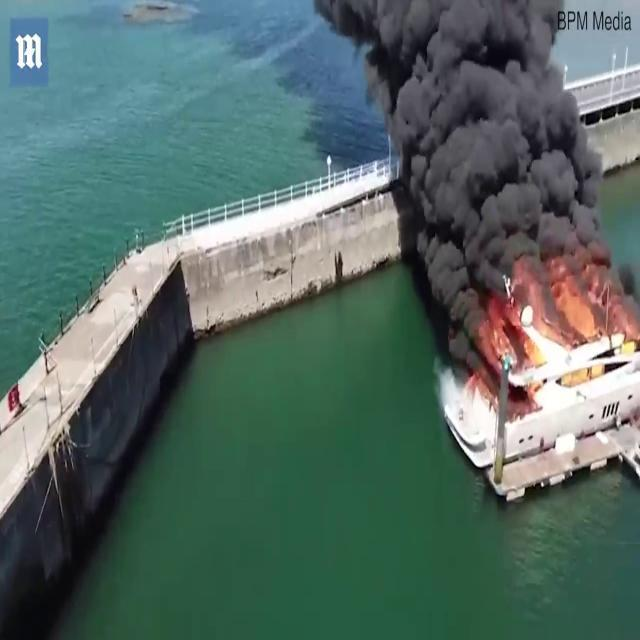Fire: (492, 252, 638, 377)
Smoke: (336, 0, 612, 293)
